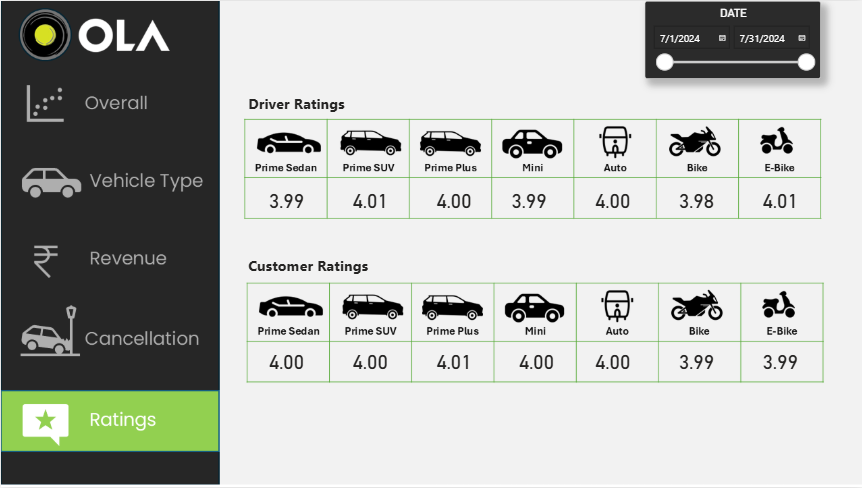

Layout of this report page (visuals, bound fields, positions):
{"tool":"powerbi","page":{"name":"Ratings","canvas":[1280,720],"ordinal":4},"visuals":[{"type":"actionButton","box":[0,223.6,325,90.3],"z":0},{"type":"actionButton","box":[0,336.1,325,90.3],"z":1000},{"type":"actionButton","box":[0,441.7,325,101.4],"z":2000},{"type":"actionButton","box":[0,105.6,325,91.7],"z":3000},{"type":"card","fields":{"Values":["Avg(July.Driver_Ratings)"]},"box":[361.1,263.9,123.6,59.7],"z":3001},{"type":"card","fields":{"Values":["Avg(July.Driver_Ratings)"]},"box":[484.7,263.9,123.6,59.7],"z":3002},{"type":"card","fields":{"Values":["Avg(July.Driver_Ratings)"]},"box":[608.3,263.9,123.6,59.7],"z":3003},{"type":"card","fields":{"Values":["Avg(July.Driver_Ratings)"]},"box":[720.8,263.9,123.6,59.7],"z":3004},{"type":"card","fields":{"Values":["Avg(July.Driver_Ratings)"]},"box":[844.4,263.9,123.6,59.7],"z":3005},{"type":"card","fields":{"Values":["Avg(July.Driver_Ratings)"]},"box":[968.1,263.9,123.6,59.7],"z":3006},{"type":"card","fields":{"Values":["Avg(July.Driver_Ratings)"]},"box":[1091.7,263.9,123.6,59.7],"z":3007},{"type":"card","fields":{"Values":["Avg(July.Customer_Rating)"]},"box":[1091.7,502.8,123.6,59.7],"z":3008},{"type":"card","fields":{"Values":["Avg(July.Customer_Rating)"]},"box":[968.1,502.8,123.6,59.7],"z":3009},{"type":"card","fields":{"Values":["Avg(July.Customer_Rating)"]},"box":[844.4,502.8,123.6,59.7],"z":3010},{"type":"card","fields":{"Values":["Avg(July.Customer_Rating)"]},"box":[731.9,502.8,123.6,59.7],"z":3011},{"type":"card","fields":{"Values":["Avg(July.Customer_Rating)"]},"box":[608.3,504.2,123.6,59.7],"z":3012},{"type":"card","fields":{"Values":["Avg(July.Customer_Rating)"]},"box":[484.7,504.2,123.6,59.7],"z":3013},{"type":"card","fields":{"Values":["Avg(July.Customer_Rating)"]},"box":[361.1,504.2,123.6,59.7],"z":3014},{"type":"textbox","box":[361.1,130.6,173.6,40.3],"z":3015},{"type":"textbox","box":[361.1,372.2,206.9,40.3],"z":3016},{"type":"slicer","title":"DATE","fields":{"Values":["July.Date"]},"box":[954.2,0,261.1,115.3],"z":3017}]}

Visuals, with their boxes on the page's 1280x720 design canvas (x1, y1, x2, y2). These are canvas units, not pixel positions in the 862x488 screenshot, which may show the page scaled, cropped or inside an application window:
actionButton: x1=0, y1=224, x2=325, y2=314
actionButton: x1=0, y1=336, x2=325, y2=426
actionButton: x1=0, y1=442, x2=325, y2=543
actionButton: x1=0, y1=106, x2=325, y2=197
card - Avg(July.Driver_Ratings): x1=361, y1=264, x2=485, y2=324
card - Avg(July.Driver_Ratings): x1=485, y1=264, x2=608, y2=324
card - Avg(July.Driver_Ratings): x1=608, y1=264, x2=732, y2=324
card - Avg(July.Driver_Ratings): x1=721, y1=264, x2=844, y2=324
card - Avg(July.Driver_Ratings): x1=844, y1=264, x2=968, y2=324
card - Avg(July.Driver_Ratings): x1=968, y1=264, x2=1092, y2=324
card - Avg(July.Driver_Ratings): x1=1092, y1=264, x2=1215, y2=324
card - Avg(July.Customer_Rating): x1=1092, y1=503, x2=1215, y2=562
card - Avg(July.Customer_Rating): x1=968, y1=503, x2=1092, y2=562
card - Avg(July.Customer_Rating): x1=844, y1=503, x2=968, y2=562
card - Avg(July.Customer_Rating): x1=732, y1=503, x2=856, y2=562
card - Avg(July.Customer_Rating): x1=608, y1=504, x2=732, y2=564
card - Avg(July.Customer_Rating): x1=485, y1=504, x2=608, y2=564
card - Avg(July.Customer_Rating): x1=361, y1=504, x2=485, y2=564
textbox: x1=361, y1=131, x2=535, y2=171
textbox: x1=361, y1=372, x2=568, y2=412
"DATE" slicer: x1=954, y1=0, x2=1215, y2=115
